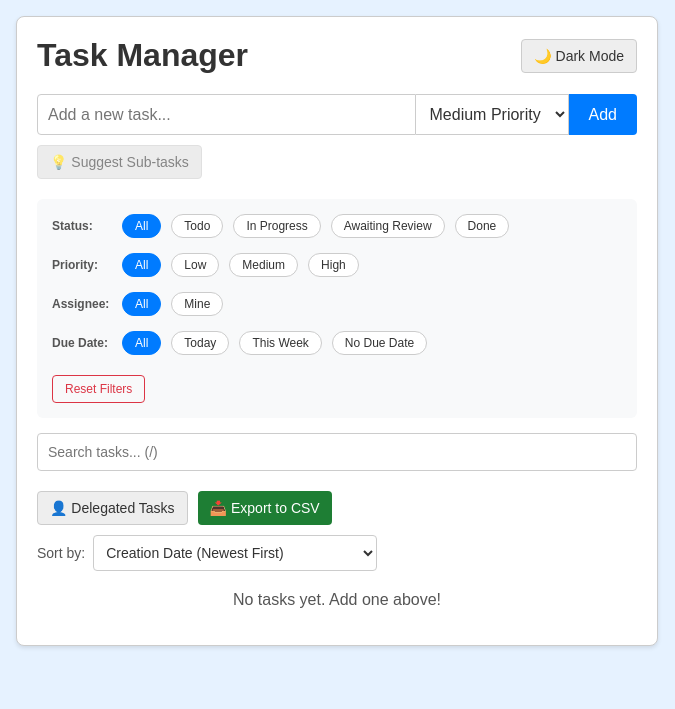
Test case: App Component Priority Integration › renders a task with medium priority by default
In the field with placeholder "Add a new task...": [226, 114] box [37,94,416,135], type "Test Default Priority"
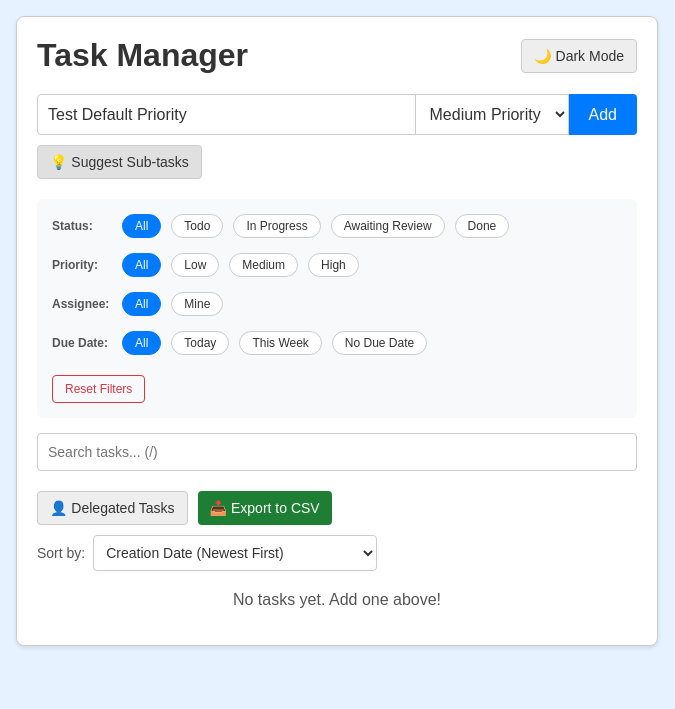
Click the button "Add": [603, 114] box [568,94,637,135]
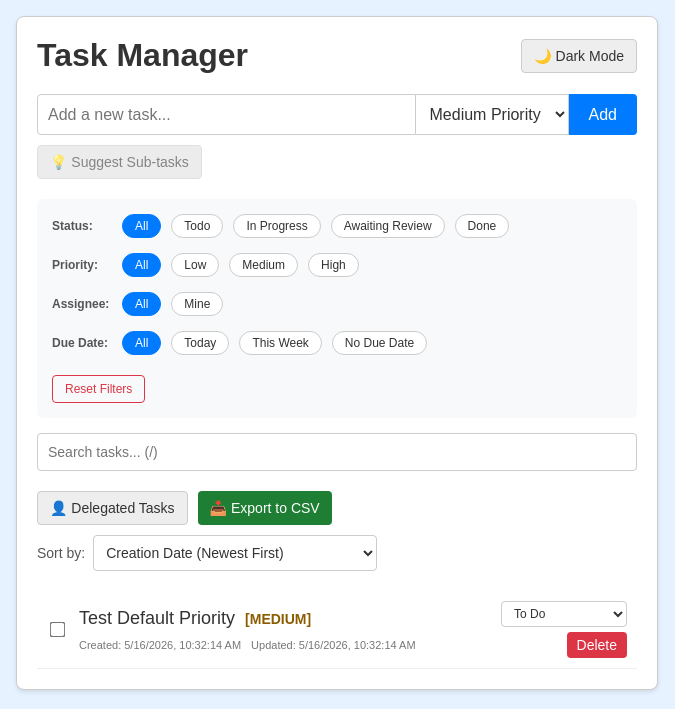
Now the text "[MEDIUM]" is shown, box [245,610,311,626]
